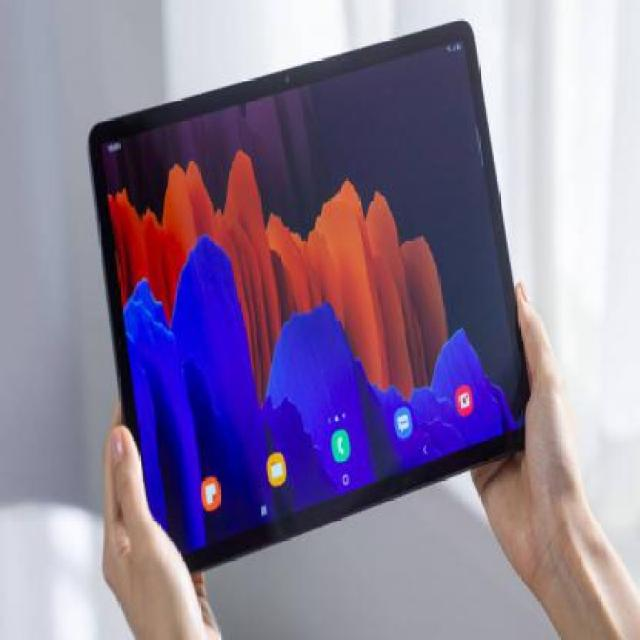tablet: (81, 21, 584, 558)
